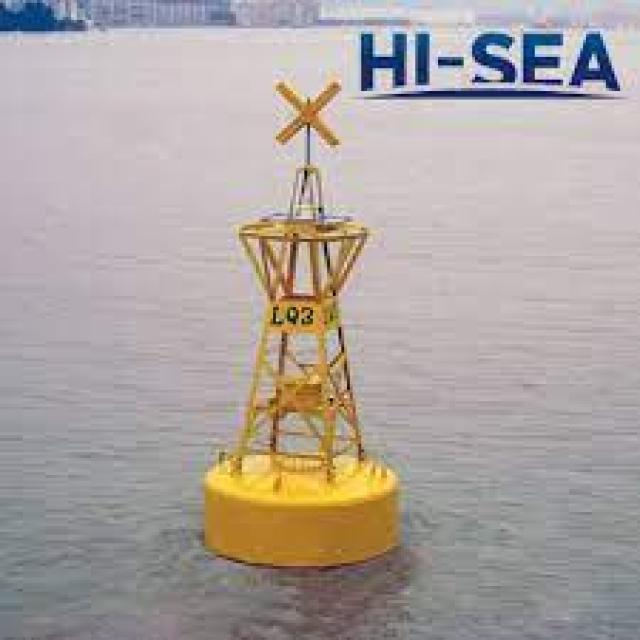marque: (195, 77, 408, 574)
